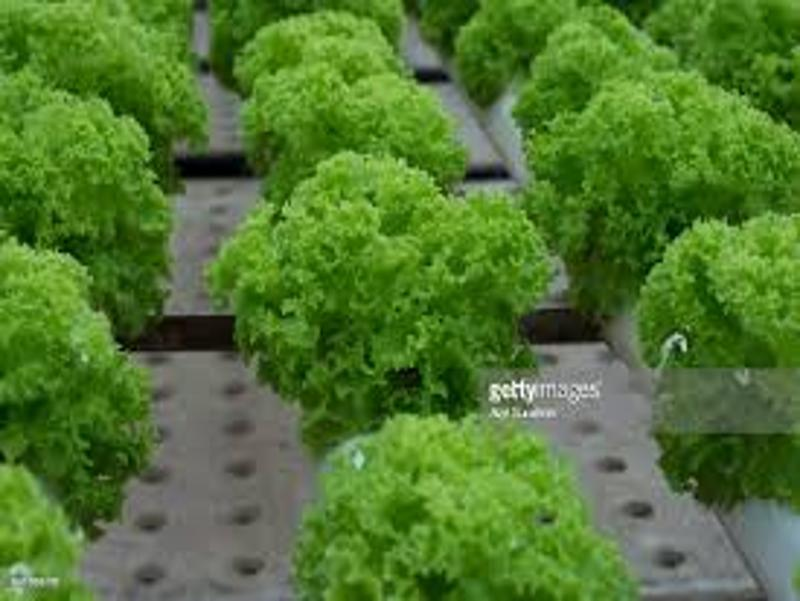green lettuce: (227, 159, 551, 425), (296, 415, 652, 601), (533, 74, 800, 299), (1, 236, 163, 535), (1, 69, 174, 336), (636, 226, 800, 497), (246, 68, 474, 200), (243, 9, 403, 84), (536, 18, 658, 112)
